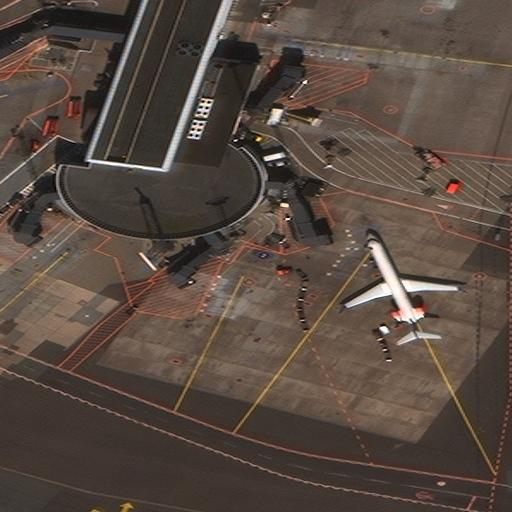Medium Civil Transport: (343, 228, 458, 341)
